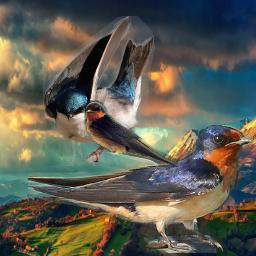Swallow: (28, 125, 253, 253), (43, 16, 155, 166), (84, 100, 178, 167)
